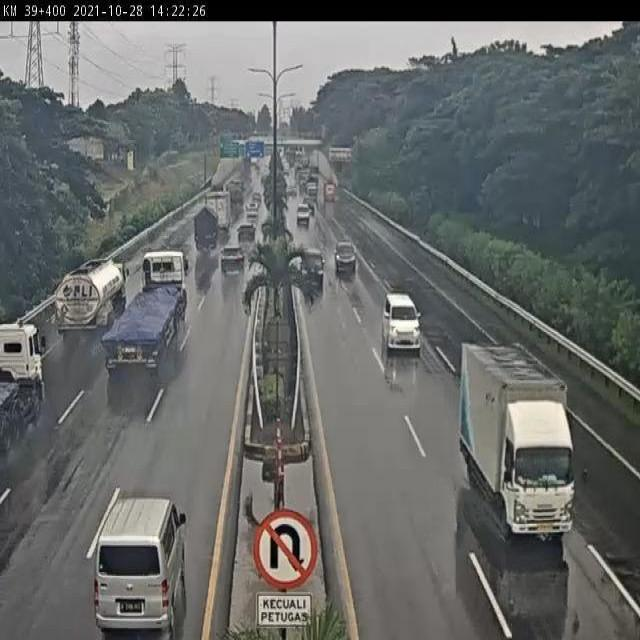car: (94, 496, 185, 640), (381, 289, 423, 355), (297, 243, 323, 288), (331, 237, 357, 272), (218, 240, 245, 273), (236, 222, 256, 246)
small truck: (458, 338, 577, 538)
truck-l-: (205, 191, 232, 233)
truck-m-: (51, 256, 128, 339), (193, 208, 218, 255)
truck-xl-: (103, 250, 186, 370)
